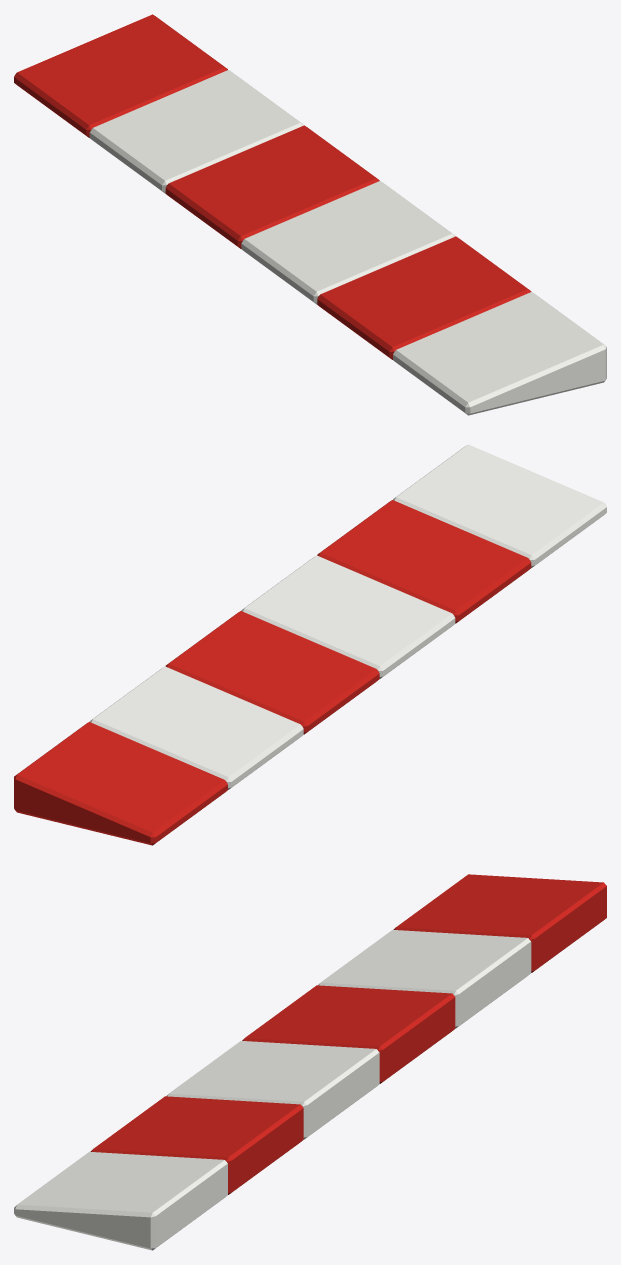
The model's file is curb.glb.
3 views of the same model, one above another, from view 1: azimuth 30°, elevation 25°; view 2: azimuth 150°, elevation 25°; view 3: azimuth 330°, elevation 25° (orthographic).
Visible parts, largest first — view 1: Body.008; view 2: Body.008; view 3: Body.008.
Part boxes in pixels (box(x1,y1,x2,y2)): Body.008: box(14, 14, 606, 415); Body.008: box(14, 444, 606, 845); Body.008: box(14, 874, 606, 1250).
Size of the model in its own units: 0.54 by 0.1379 by 3.
